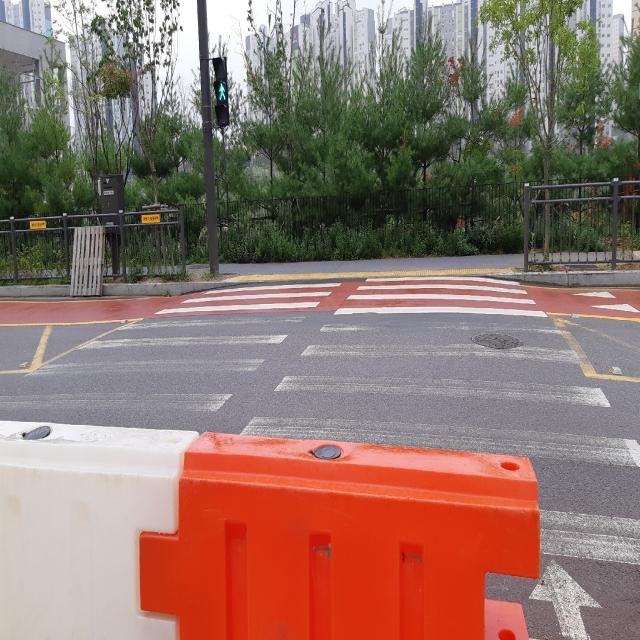초록불: (210, 55, 230, 131)
횡단보도: (31, 274, 640, 578)
